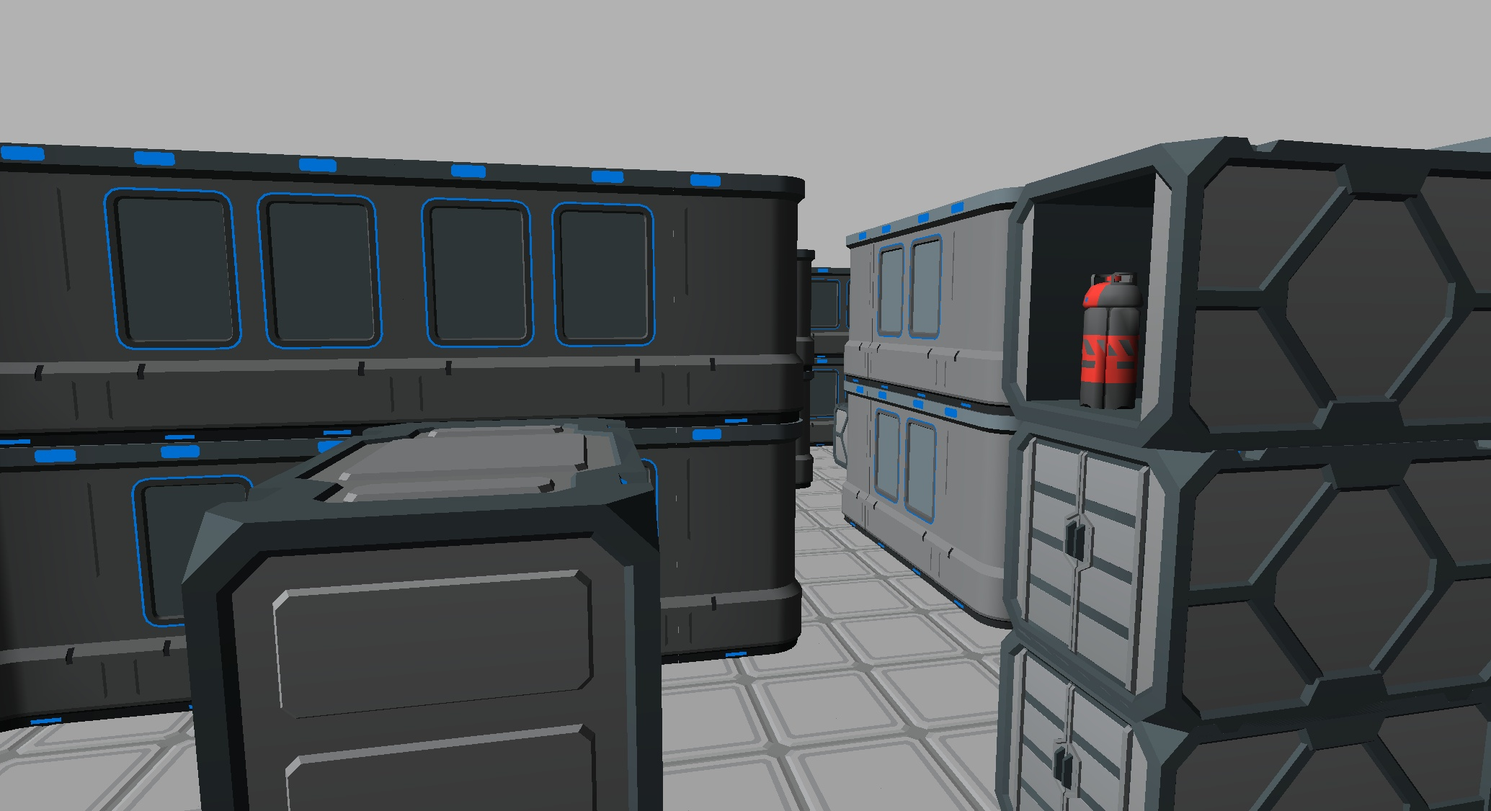red_barrel: (1080, 274, 1140, 408)
